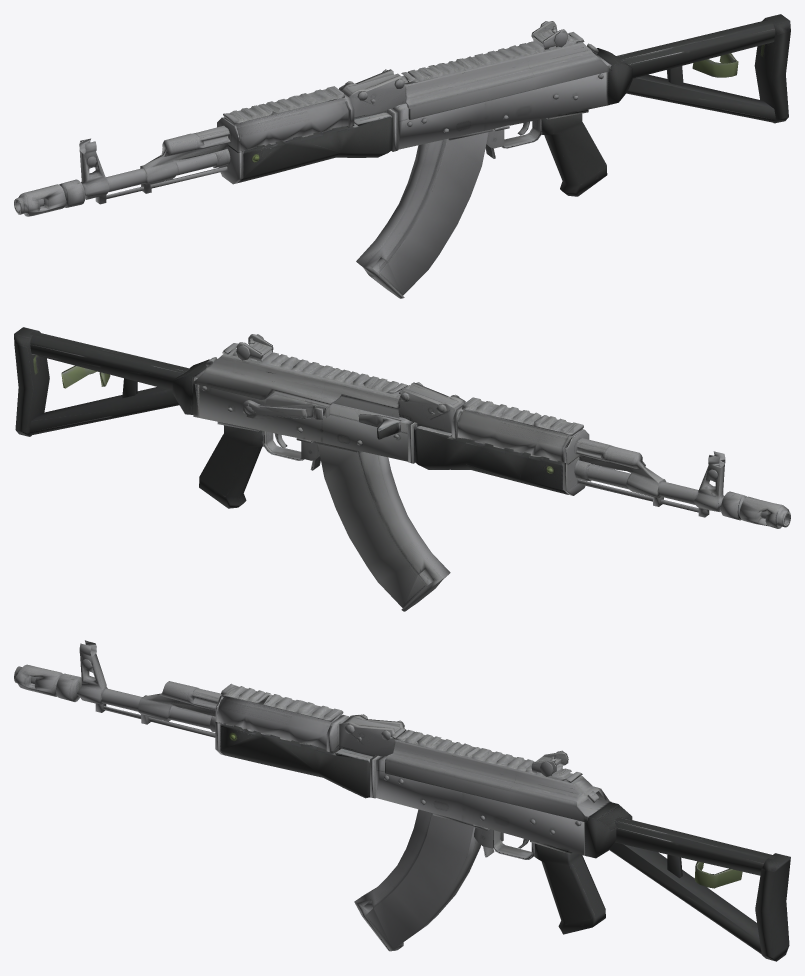
Rendered from ar_ravager.glb.
3 renders of one model, top to bottom at view 1: azimuth 30°, elevation 25°; view 2: azimuth 150°, elevation 25°; view 3: azimuth 330°, elevation 25°, orthographic.
Size of the model in its own units: 0.9575 by 0.2764 by 0.0786.
1 material, 1 textured.
